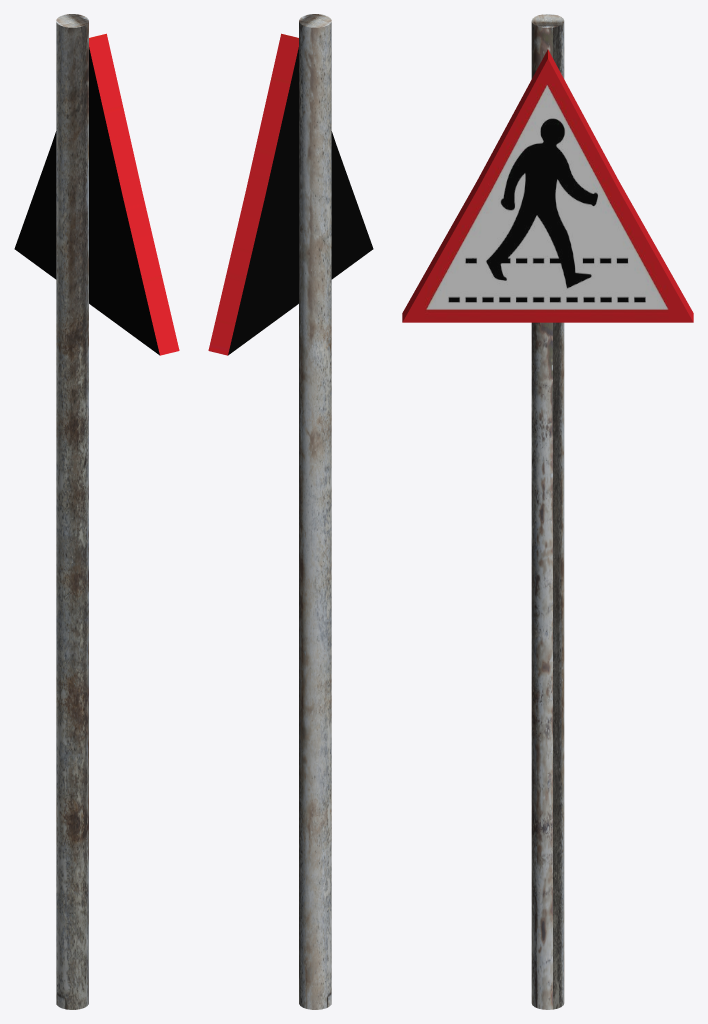
The model's file is Triangle Top Pole 1.fbx.
The picture shows the model from 3 angles, left to right: view 1: azimuth 30°, elevation 25°; view 2: azimuth 150°, elevation 25°; view 3: azimuth 270°, elevation 25°; orthographic projection.
Visible parts, largest first — view 1: pole, head; view 2: pole, head; view 3: head, pole.
Boxes of the visible parts, <box> form: pole: <box>56,14,88,1009</box>; head: <box>14,33,179,355</box>; pole: <box>299,14,331,1009</box>; head: <box>208,33,373,355</box>; head: <box>402,49,693,322</box>; pole: <box>531,14,564,1009</box>.
Size of the model in its own units: 0.3401 by 6.59 by 1.77.
Materials: 2 (2 with a texture image).
